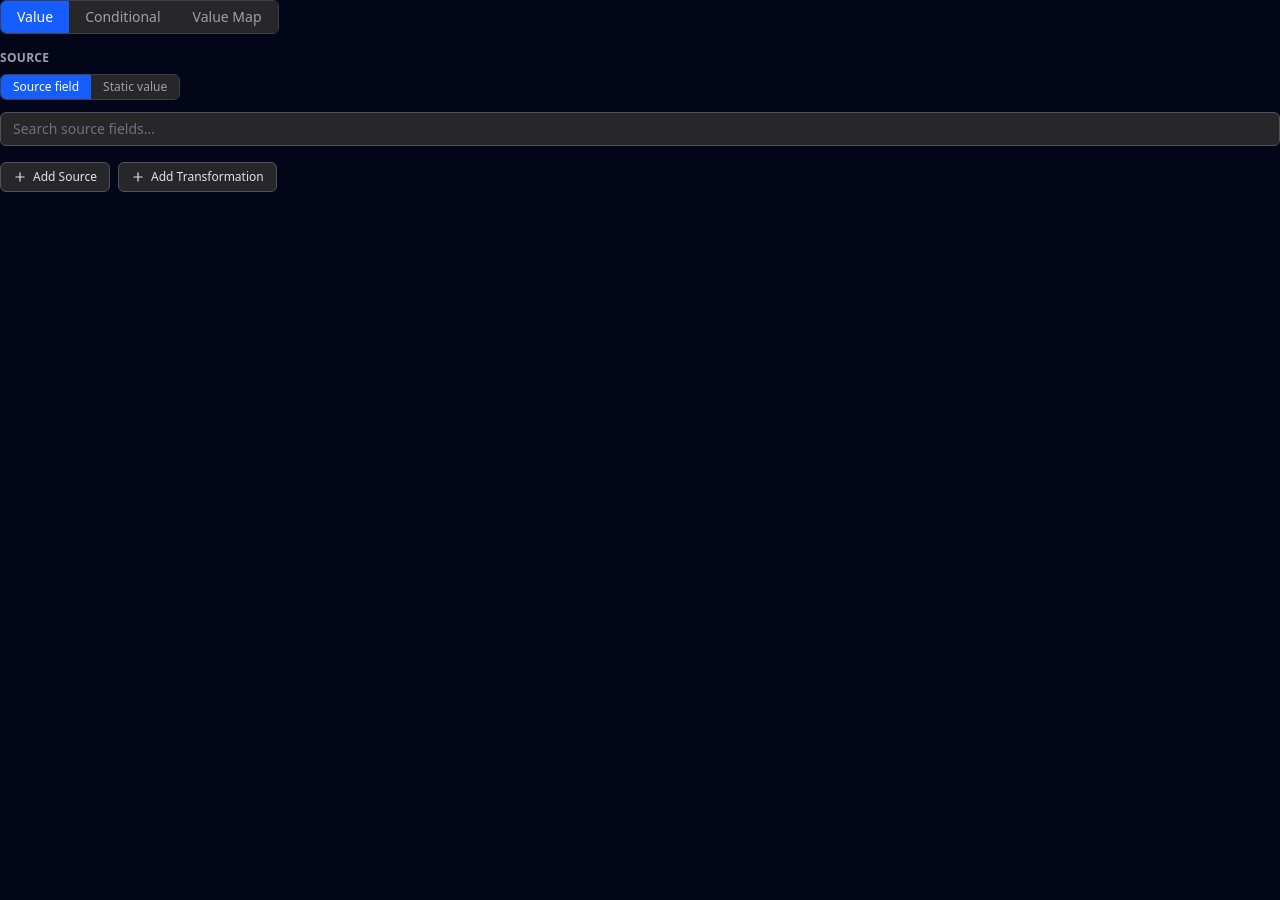
UnifiedExpressionBuilder — mode switch confirmation › cancelling mode switch preserves state and stays on current mode
Click the dropdown with test id "source-search-input".
click(640, 129)  # box [0,112,1279,146]
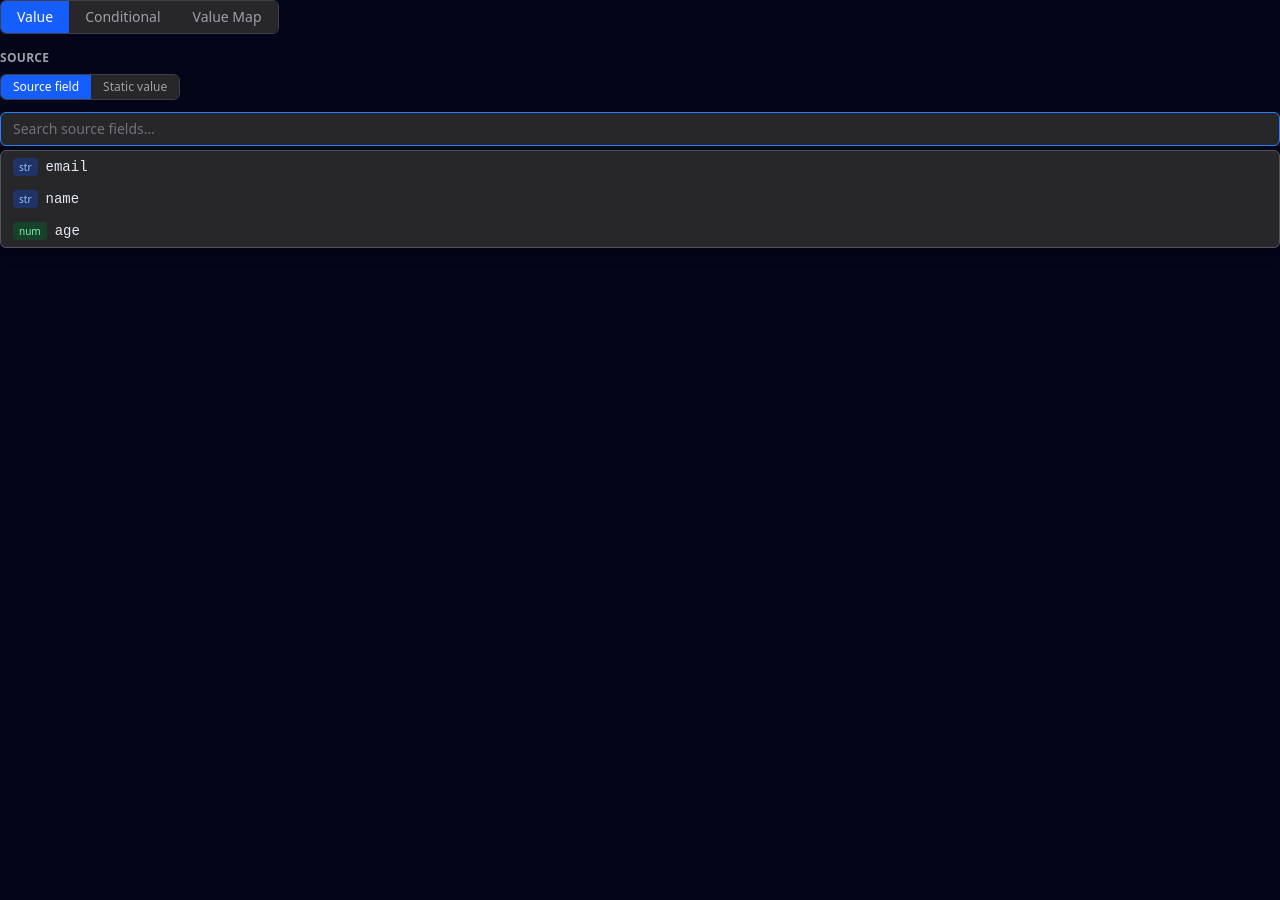
Click the button with test id "suggestion-email".
click(67, 167)  # box [1,151,1279,183]
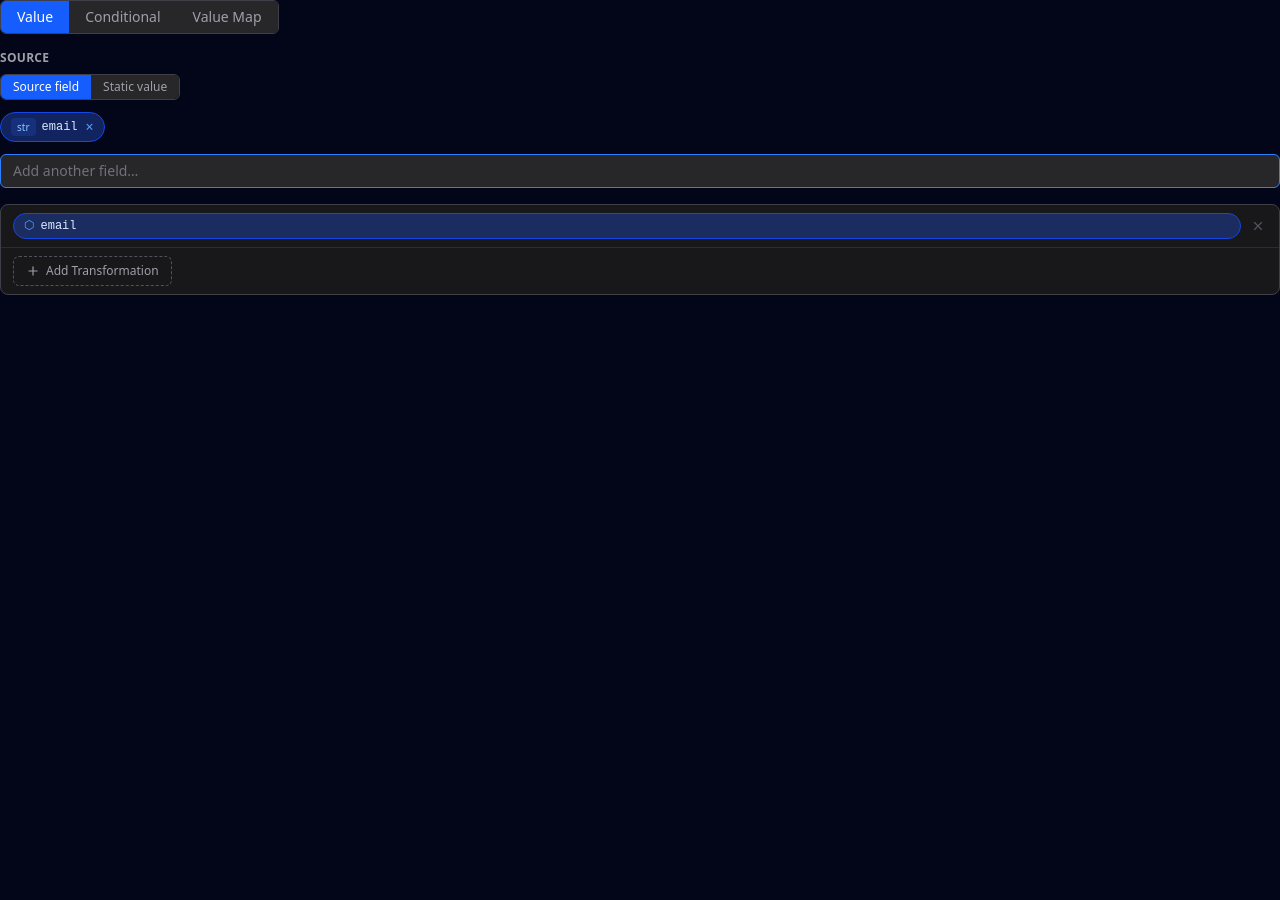
Click the tab with test id "mode-tab-conditional".
click(123, 17)  # box [69,1,177,33]
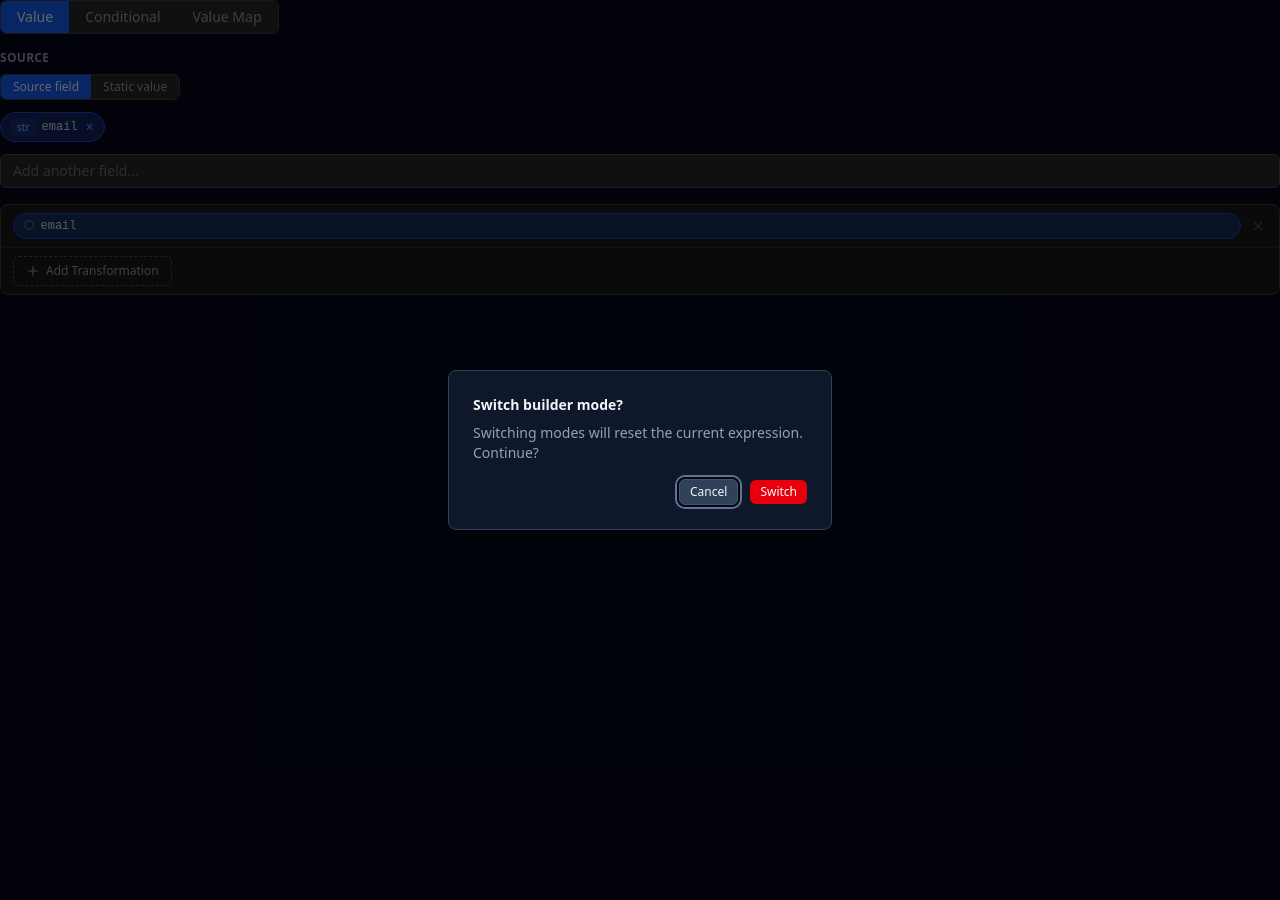
Click the button with test id "confirm-dialog-cancel".
click(709, 492)  # box [679,479,738,505]
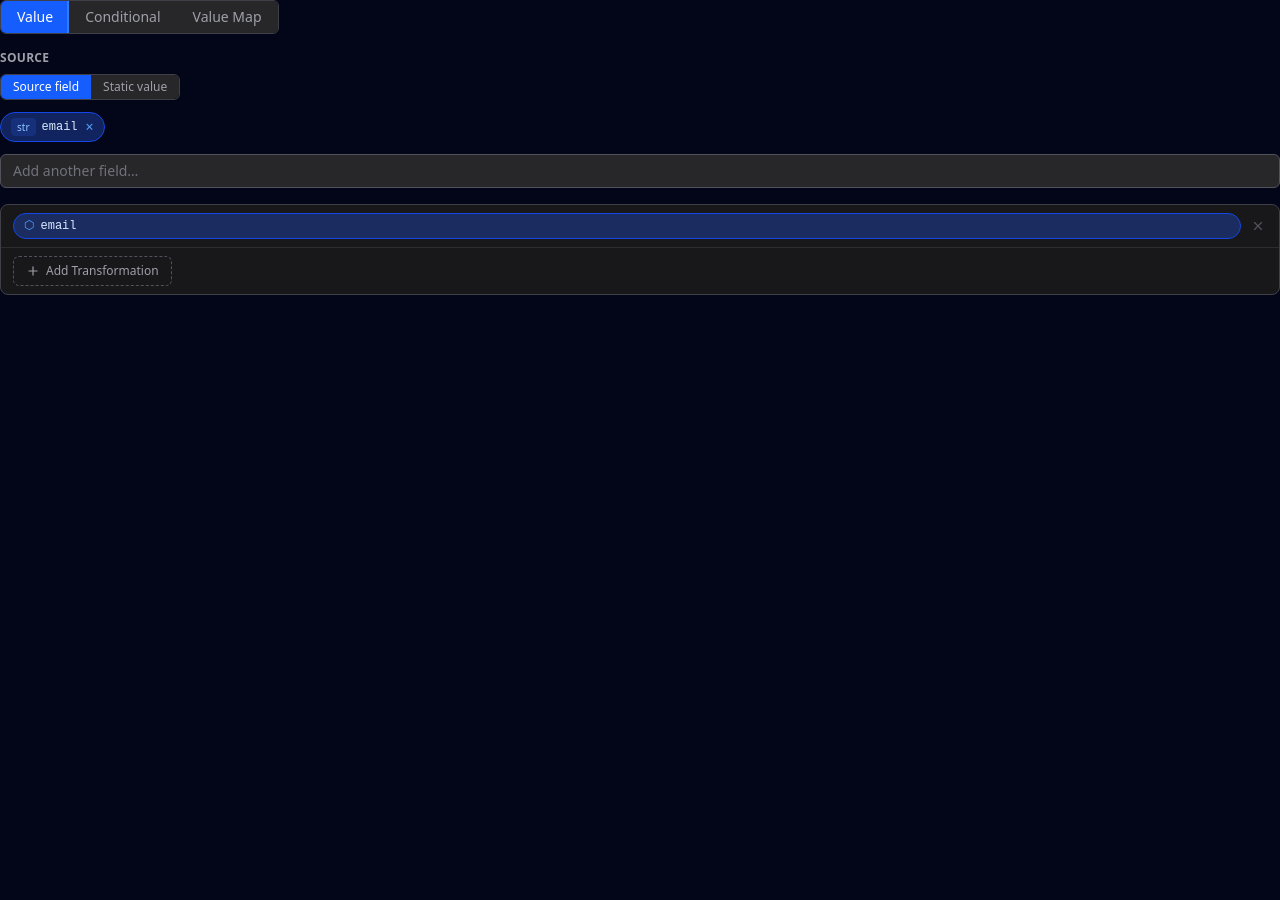
Check: the text "email" next to "str" is shown, box [42,120,78,134]
Check: the dialog with test id "confirm-dialog" is gone
